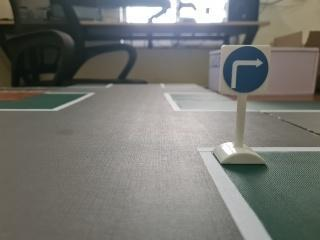right: (221, 41, 273, 99)
